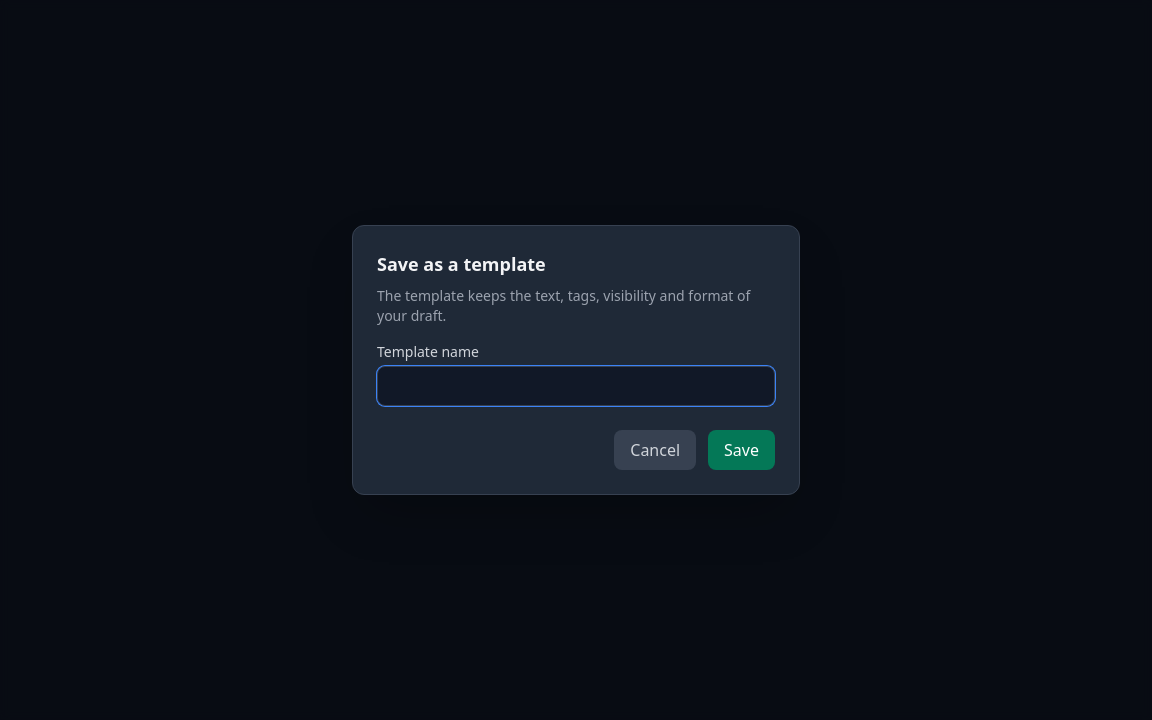
Test: TemplateNameDialog › refuses the name  with a message tied to the field
Press Enter
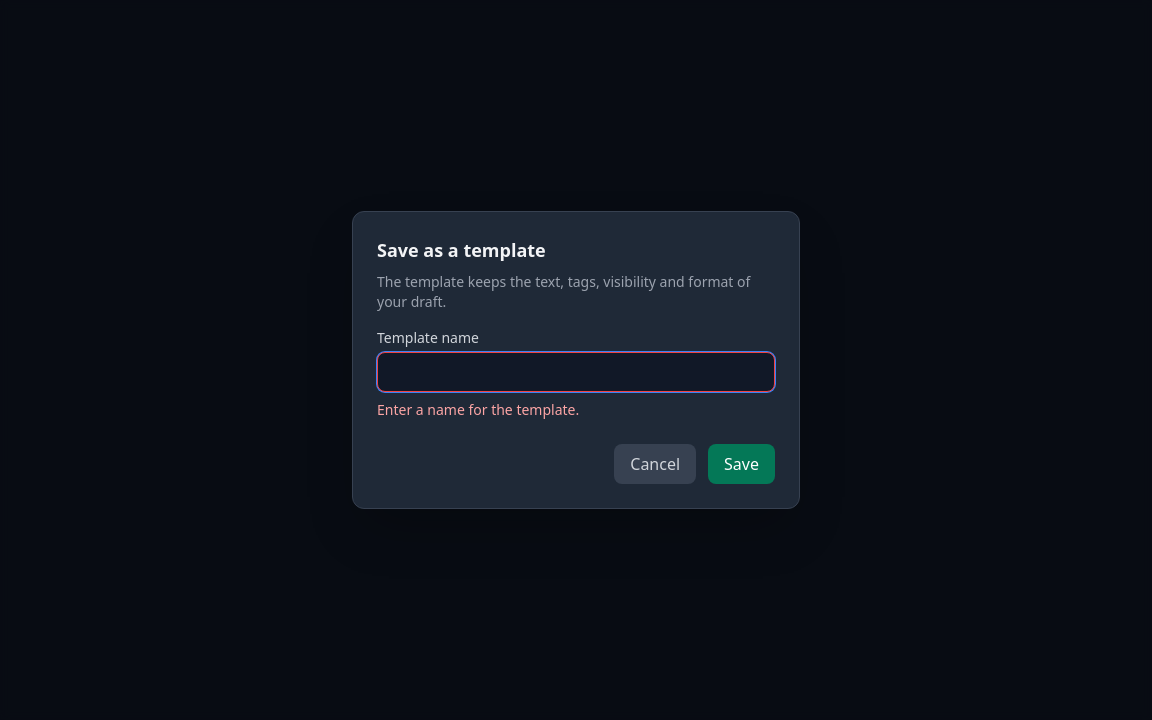
Check: the message reads "Enter a name for the template.", box x1=377 y1=400 x2=579 y2=419
Type "Evening" into the field labelled "Template name" at (576, 372), box x1=377 y1=352 x2=775 y2=392
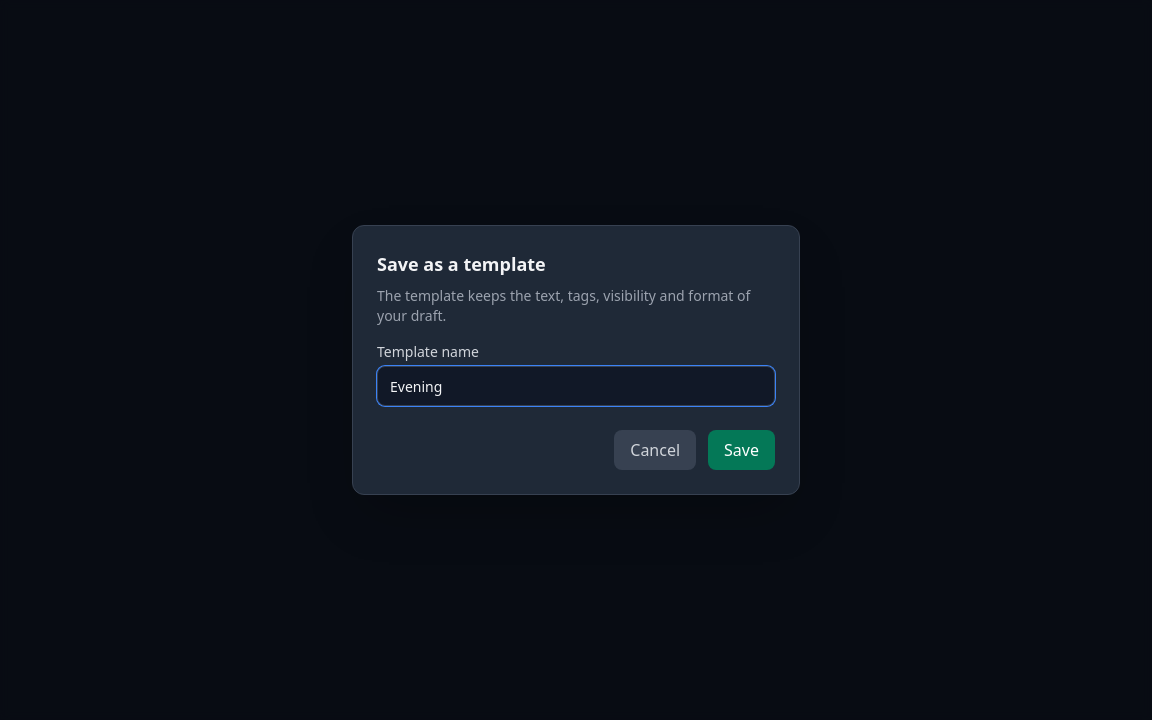
Check: the message "Enter a name for the template." is gone
